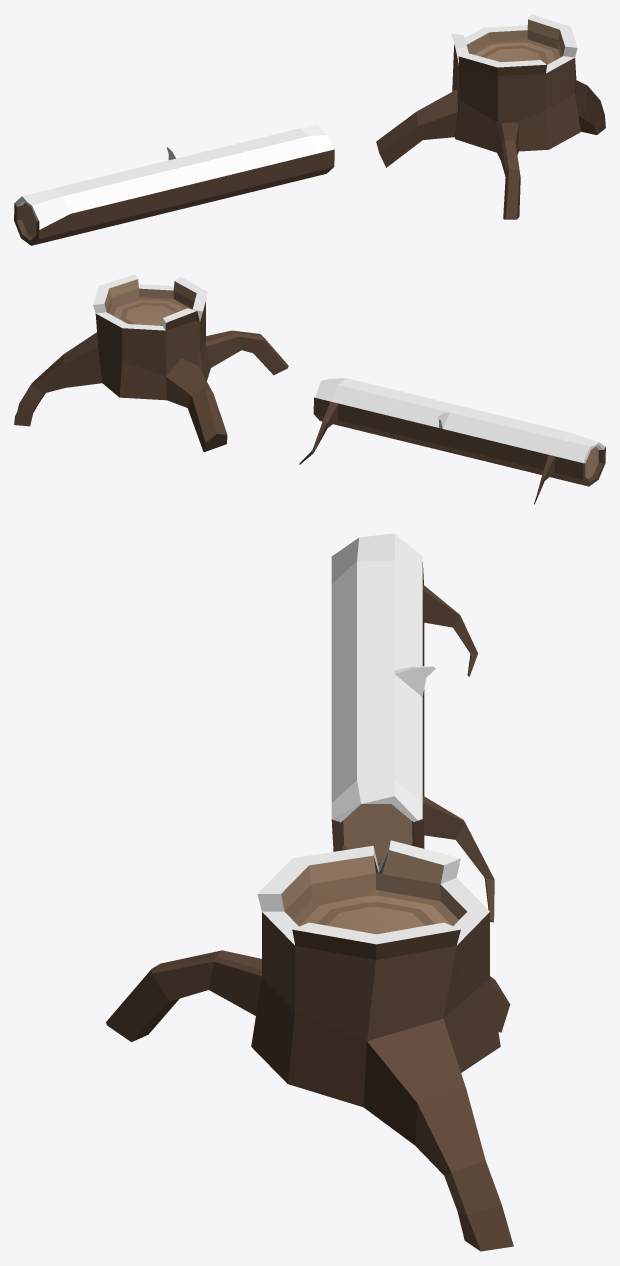
Rendered from stump_log.fbx.
The picture shows the model from 3 angles, top to bottom: view 1: azimuth 30°, elevation 25°; view 2: azimuth 150°, elevation 25°; view 3: azimuth 270°, elevation 25°; orthographic projection. The views are drawn at different scales.
Parts seen in each view (by area): view 1: Stump, Log; view 2: Stump, Log; view 3: Stump, Log.
Part boxes in pixels (x1=…): Stump: x1=376, y1=14, x2=605, y2=219; Log: x1=14, y1=124, x2=334, y2=245; Stump: x1=14, y1=274, x2=288, y2=452; Log: x1=299, y1=378, x2=605, y2=504; Stump: x1=106, y1=840, x2=513, y2=1251; Log: x1=331, y1=533, x2=494, y2=922.
Bounding box in the file's own units: 1399 × 446 × 312.
